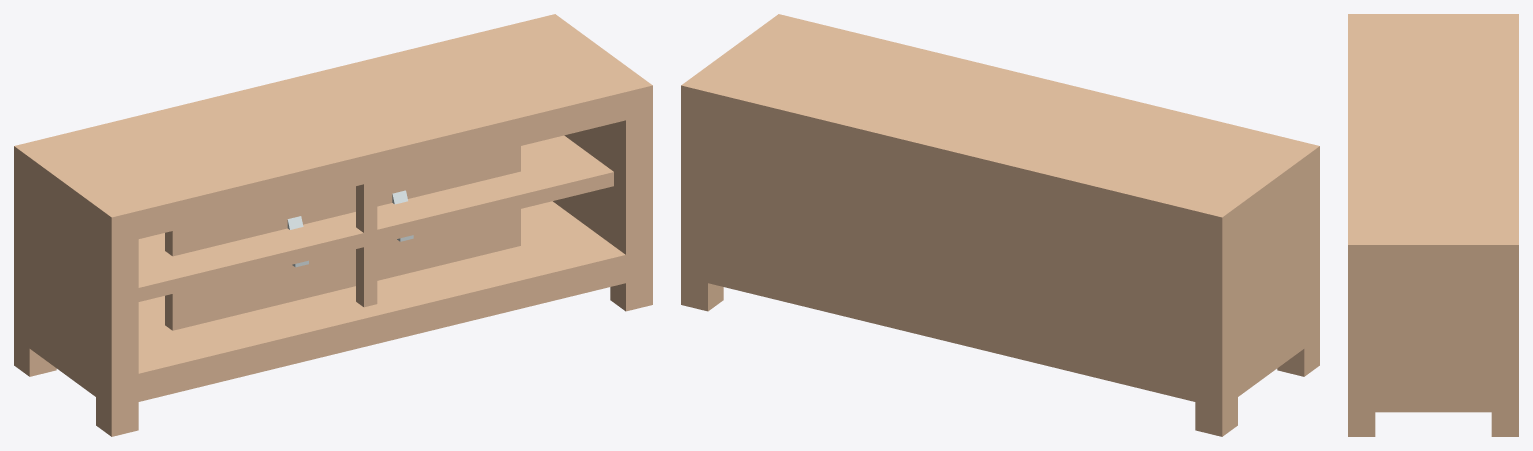
File: cabinetTelevisionDoors.glb
3 renders of one model, left to right at view 1: azimuth 30°, elevation 25°; view 2: azimuth 150°, elevation 25°; view 3: azimuth 270°, elevation 25°, orthographic. The views are drawn at different scales.
Parts seen in each view (by area): view 1: cabinetTelevisionDoors, cabinetTelevisionDoors.002, cabinetTelevisionDoors.001; view 2: cabinetTelevisionDoors; view 3: cabinetTelevisionDoors.
Boxes of the visible parts, x1,y1,x2,y2 form: cabinetTelevisionDoors: (14,14,652,436); cabinetTelevisionDoors.002: (277,146,520,305); cabinetTelevisionDoors.001: (165,190,413,330); cabinetTelevisionDoors: (681,14,1319,436); cabinetTelevisionDoors: (1348,14,1518,436).
Size of the model in its own units: 2.32 by 0.899 by 0.725.
